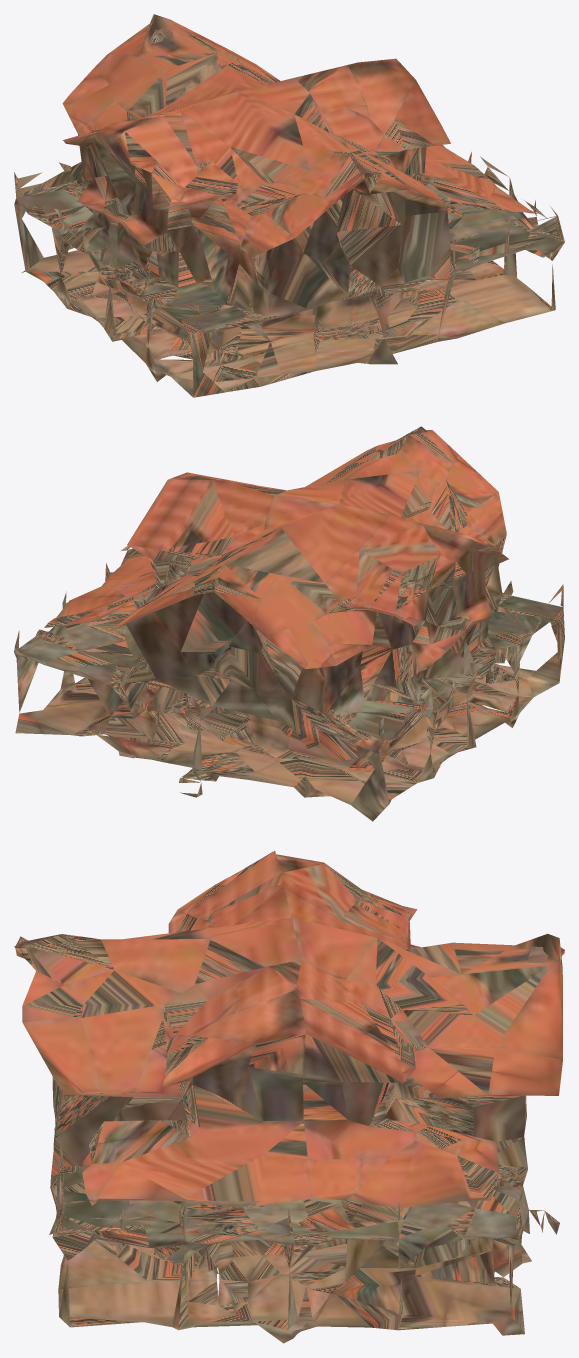
Rendered from bq_rural_house.lod2.glb.
The picture shows the model from 3 angles, top to bottom: view 1: azimuth 30°, elevation 25°; view 2: azimuth 150°, elevation 25°; view 3: azimuth 270°, elevation 25°; orthographic projection. The views are drawn at different scales.
Parts seen in each view (by area): view 1: mesh_node; view 2: mesh_node; view 3: mesh_node.
Boxes of the visible parts, x1=… form: mesh_node: x1=14, y1=14, x2=564, y2=397; mesh_node: x1=14, y1=426, x2=564, y2=821; mesh_node: x1=14, y1=850, x2=564, y2=1343.
Bounding box in the file's own units: 1.88 × 1.08 × 1.89.
1 material, 1 textured.
